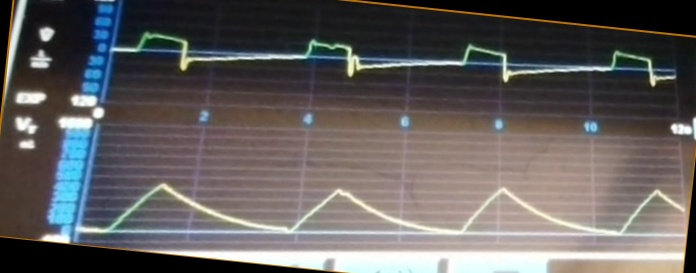Premature_cycling Flow: (115, 29, 676, 102)
Premature_cycling Volume: (79, 178, 684, 243)
